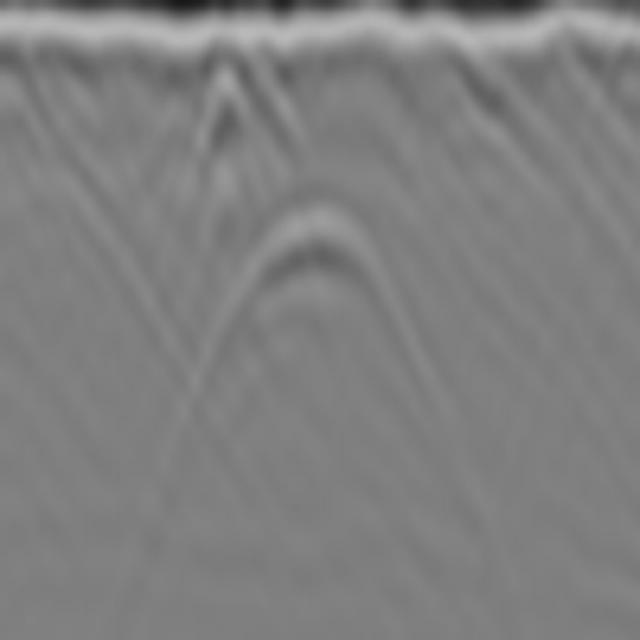hyperbola: (199, 192, 421, 396)
